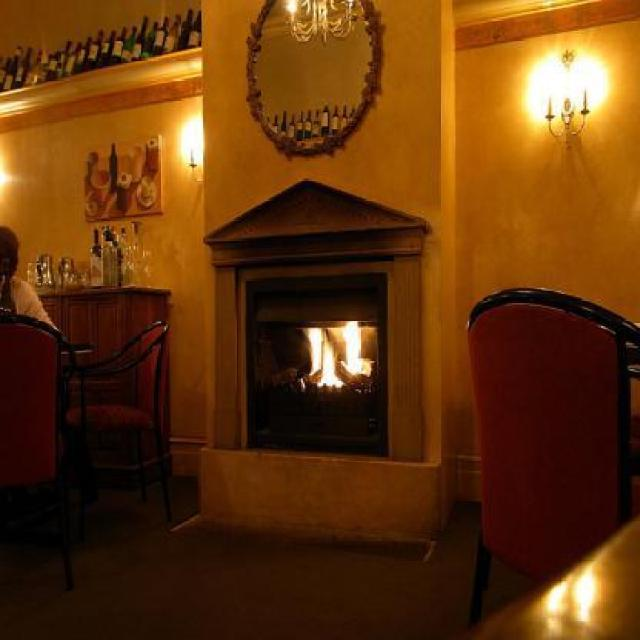Fire: (302, 322, 370, 389)
